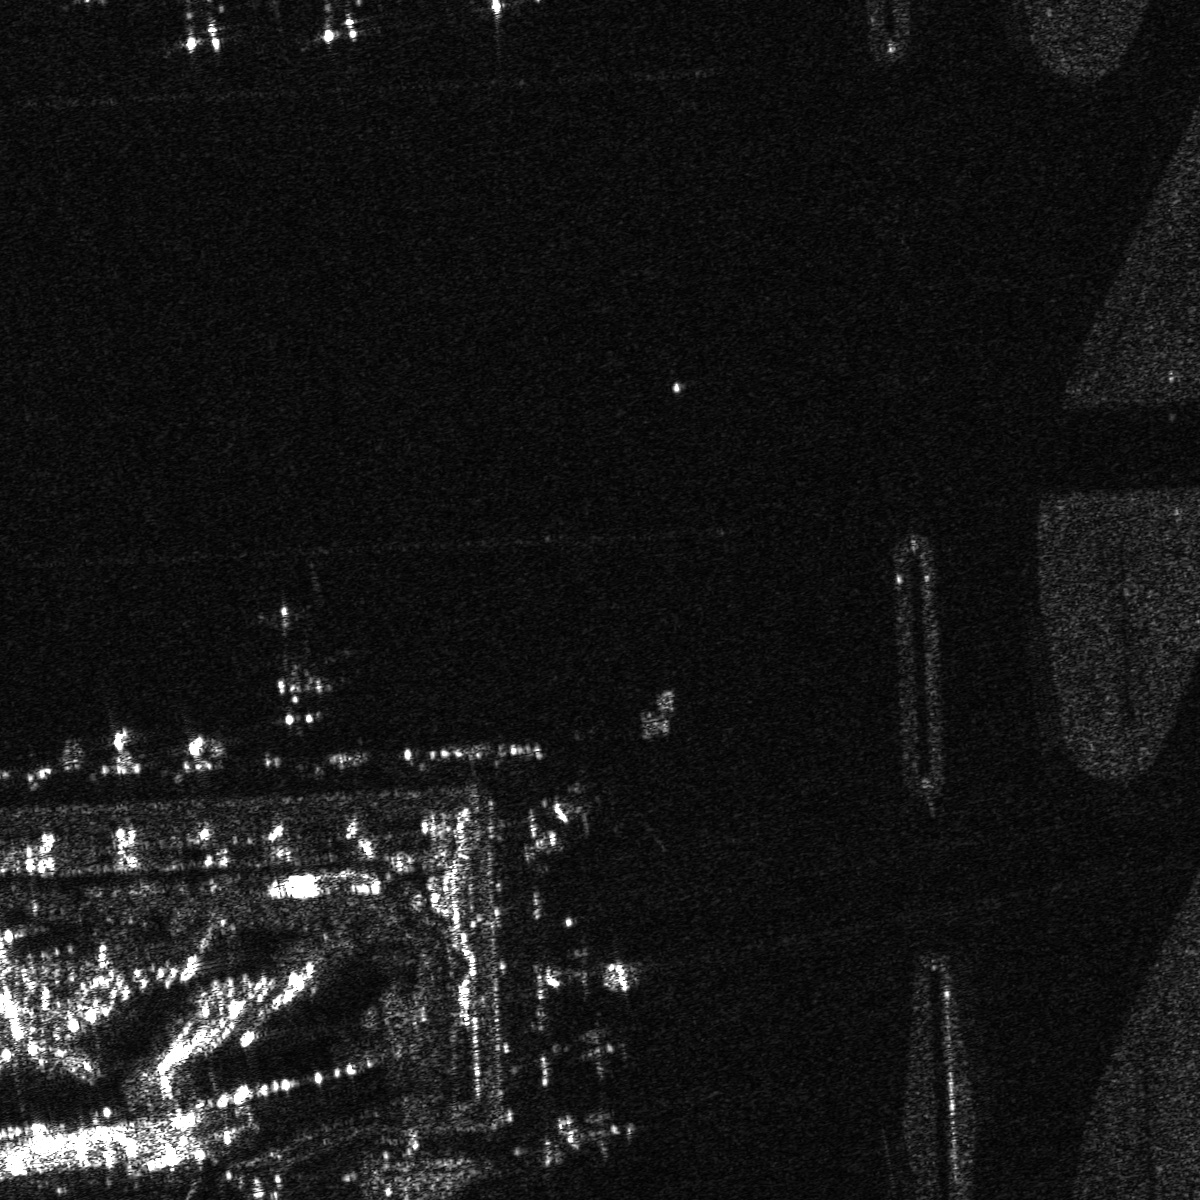A220: (541, 927, 647, 998), (547, 1100, 647, 1167), (546, 1023, 645, 1087)
Boeing787: (260, 602, 341, 736)
